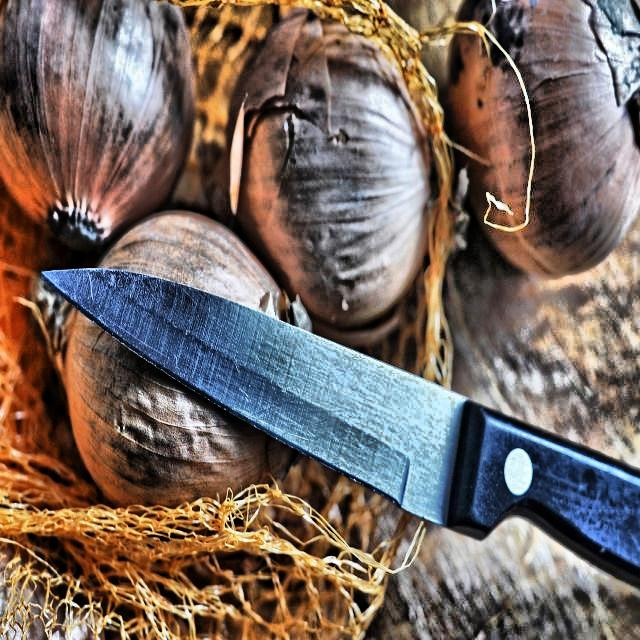knife: (37, 262, 640, 589)
